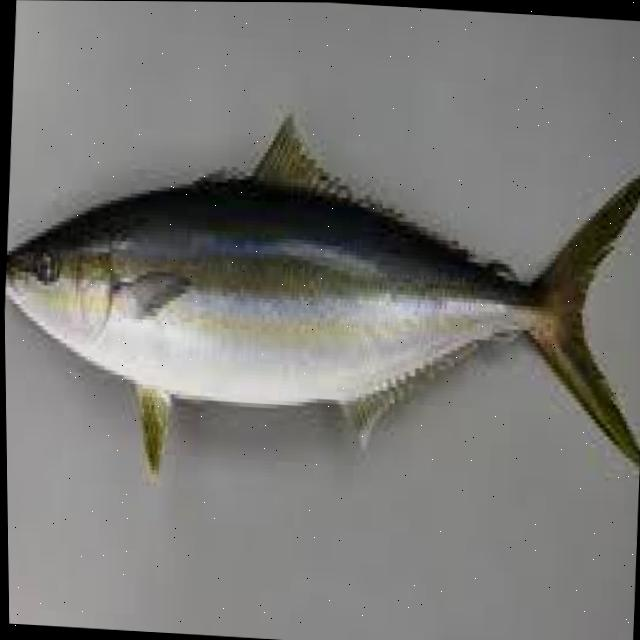Kingfish: (1, 93, 640, 519)
